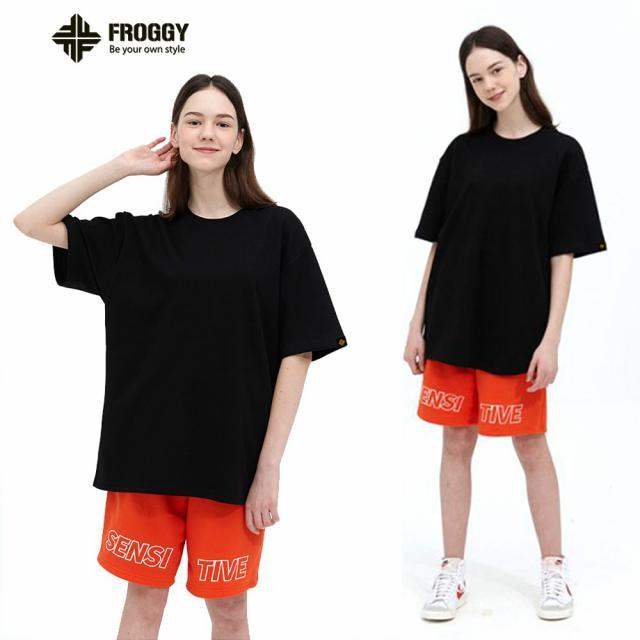Shirt: (53, 199, 349, 508), (412, 122, 610, 375)
